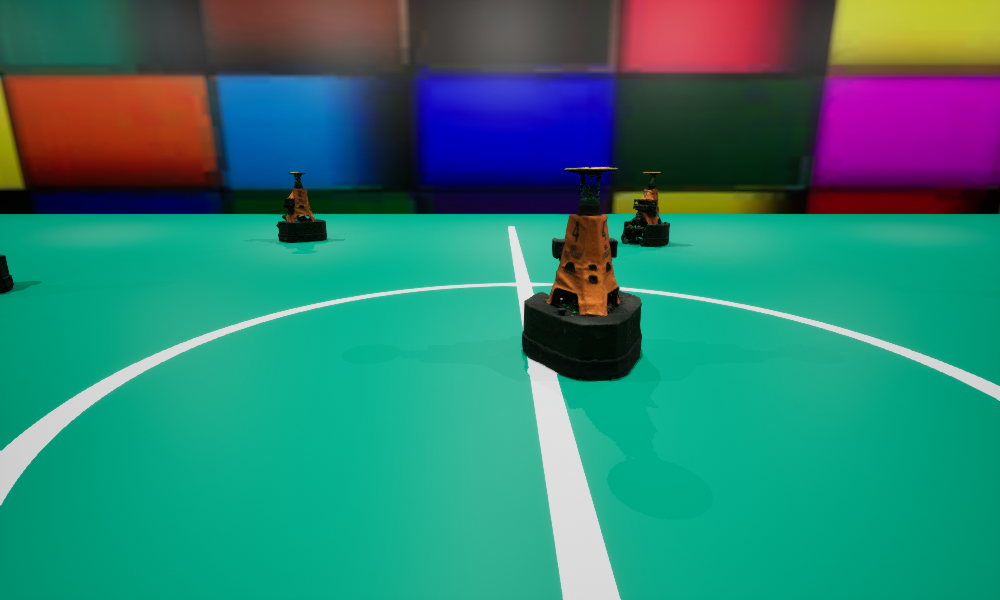o: (522, 167, 641, 380), (621, 172, 669, 245), (276, 172, 326, 241), (0, 255, 13, 291)
